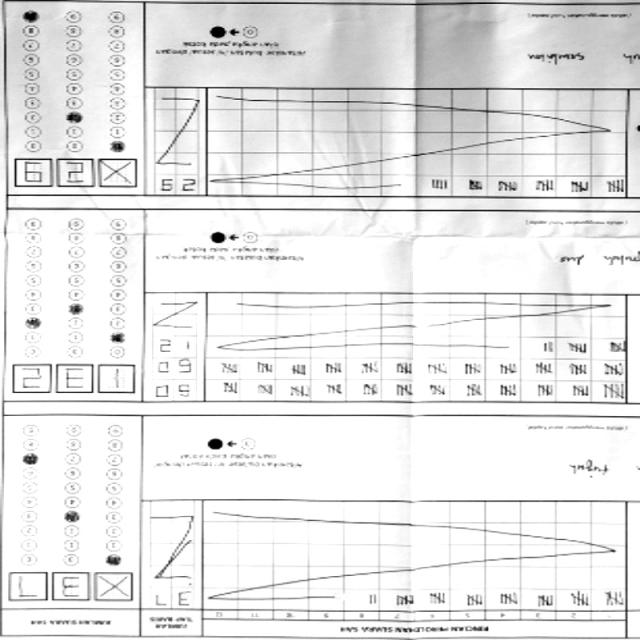Suara: (3, 569, 138, 609), (7, 359, 142, 399), (8, 154, 143, 194)
